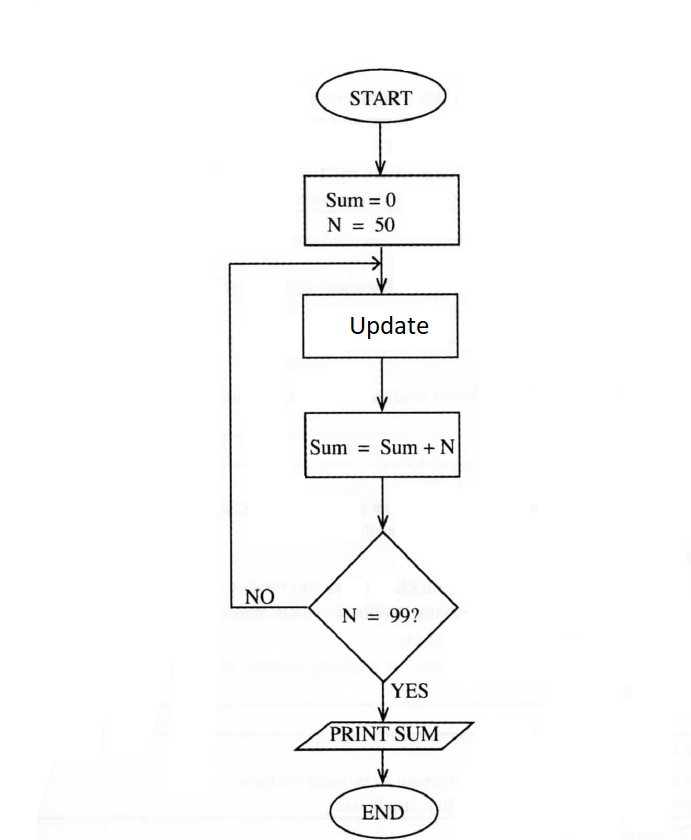arrow: (223, 257, 387, 614), (371, 122, 394, 174), (372, 354, 390, 413), (373, 239, 391, 294), (373, 673, 393, 721), (377, 481, 394, 532), (376, 745, 391, 783)
data: (293, 718, 480, 753)
decision: (307, 526, 462, 683)
process: (299, 171, 467, 249), (298, 407, 464, 482), (299, 292, 463, 362)
terminator: (313, 67, 452, 127), (328, 781, 441, 840)
text: (320, 187, 398, 235), (308, 436, 463, 457), (326, 722, 439, 745), (345, 312, 430, 339), (336, 604, 422, 627), (344, 82, 414, 108), (355, 800, 408, 827), (389, 680, 430, 703), (243, 587, 276, 609)
